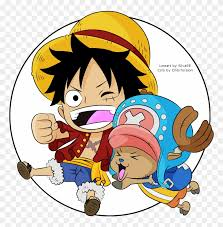chopper: (108, 96, 215, 181)
luffy: (29, 11, 158, 133)
